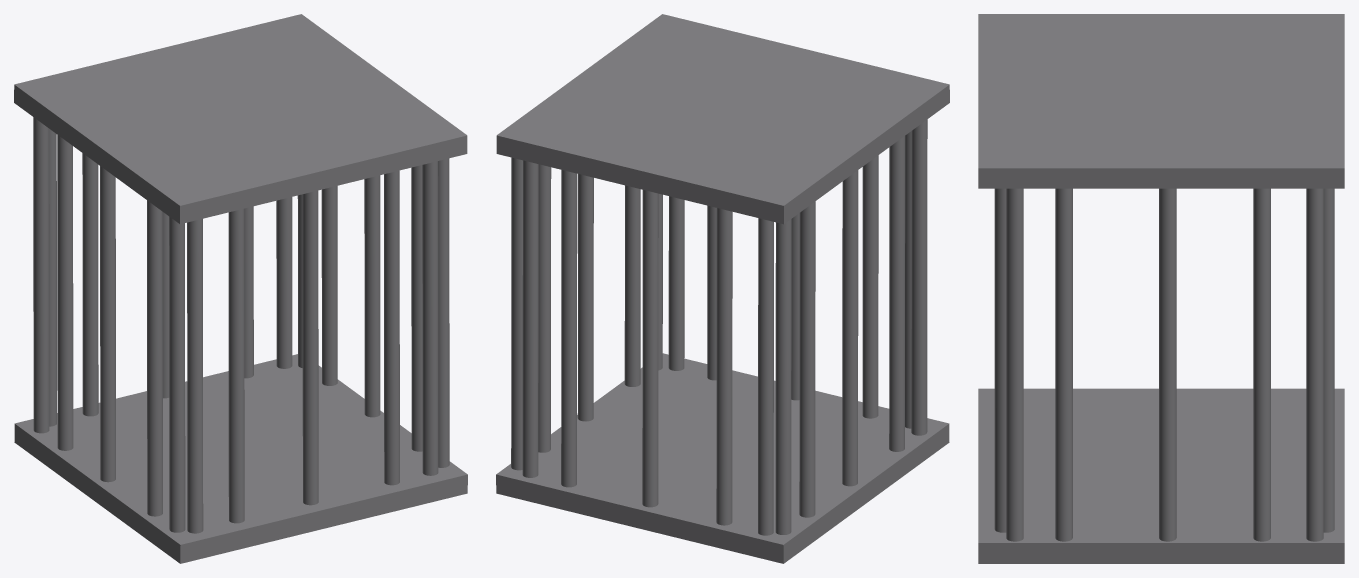
File: CAGE_NOT_BROKEN.fbx
The picture shows the model from 3 angles, left to right: view 1: azimuth 30°, elevation 25°; view 2: azimuth 150°, elevation 25°; view 3: azimuth 270°, elevation 25°; orthographic projection. The views are drawn at different scales.
Parts seen in each view (by area): view 1: Cylinder; view 2: Cylinder; view 3: Cylinder.
Boxes of the visible parts, bbox=[...] form: Cylinder: bbox=[14, 14, 467, 563]; Cylinder: bbox=[496, 14, 949, 563]; Cylinder: bbox=[978, 14, 1344, 563].
Bounding box in the file's own units: 374 × 445 × 373.
